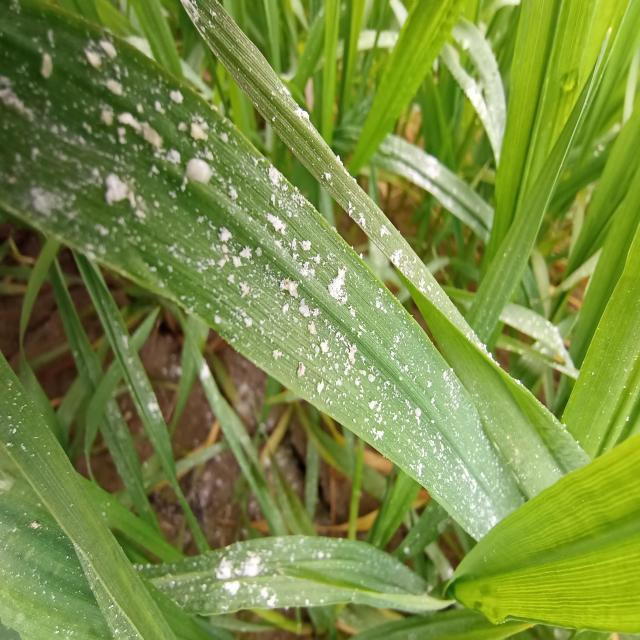Powdery_Mildew: (42, 26, 459, 470)
